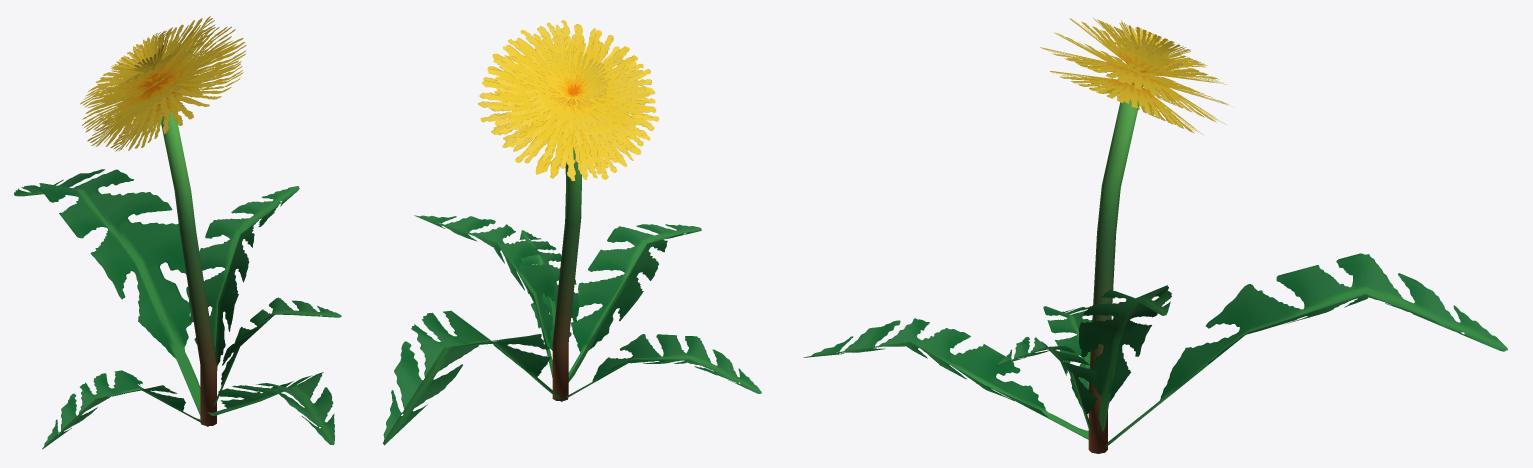
The model's file is Dandelion.fbx.
3 renders of one model, left to right at view 1: azimuth 30°, elevation 25°; view 2: azimuth 150°, elevation 25°; view 3: azimuth 270°, elevation 25°, orthographic. The views are drawn at different scales.
Visible parts, largest first — view 1: Dandelion; view 2: Dandelion; view 3: Dandelion.
Boxes of the visible parts, <box> form: Dandelion: <box>14,16,341,449</box>; Dandelion: <box>383,20,761,445</box>; Dandelion: <box>803,18,1507,453</box>.
Size of the model in its own units: 49.62 by 58.8 by 88.96.
1 material, 1 textured.
